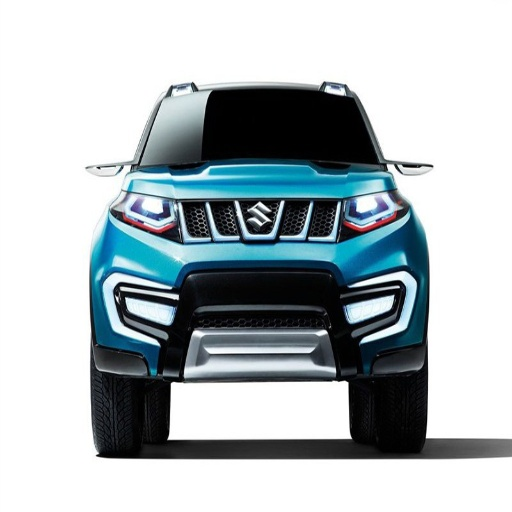front_bumper: (91, 199, 425, 381)
front_right_light: (110, 193, 176, 237)
hood: (129, 157, 391, 198)
